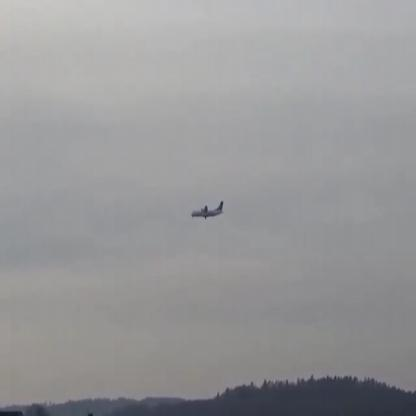CIV_Plane: (190, 199, 224, 220)
